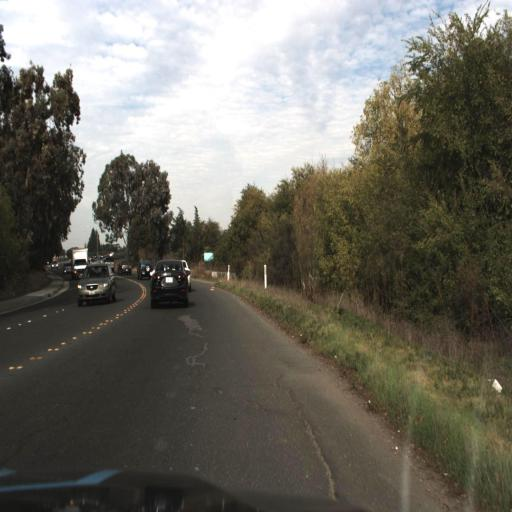car: (75, 255, 117, 305), (149, 260, 192, 306), (134, 255, 154, 288), (115, 253, 135, 278)
truck: (68, 243, 90, 286)
